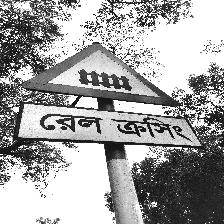Rail-crossing: (15, 43, 202, 148)
